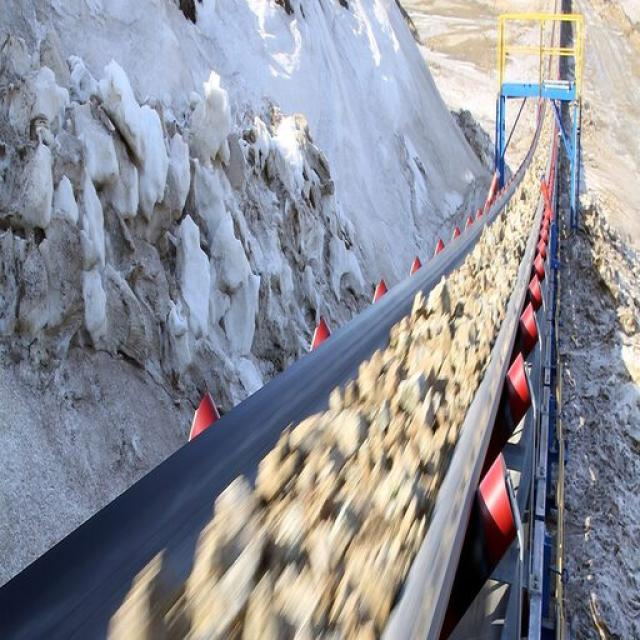conveyor: (0, 2, 585, 638)
